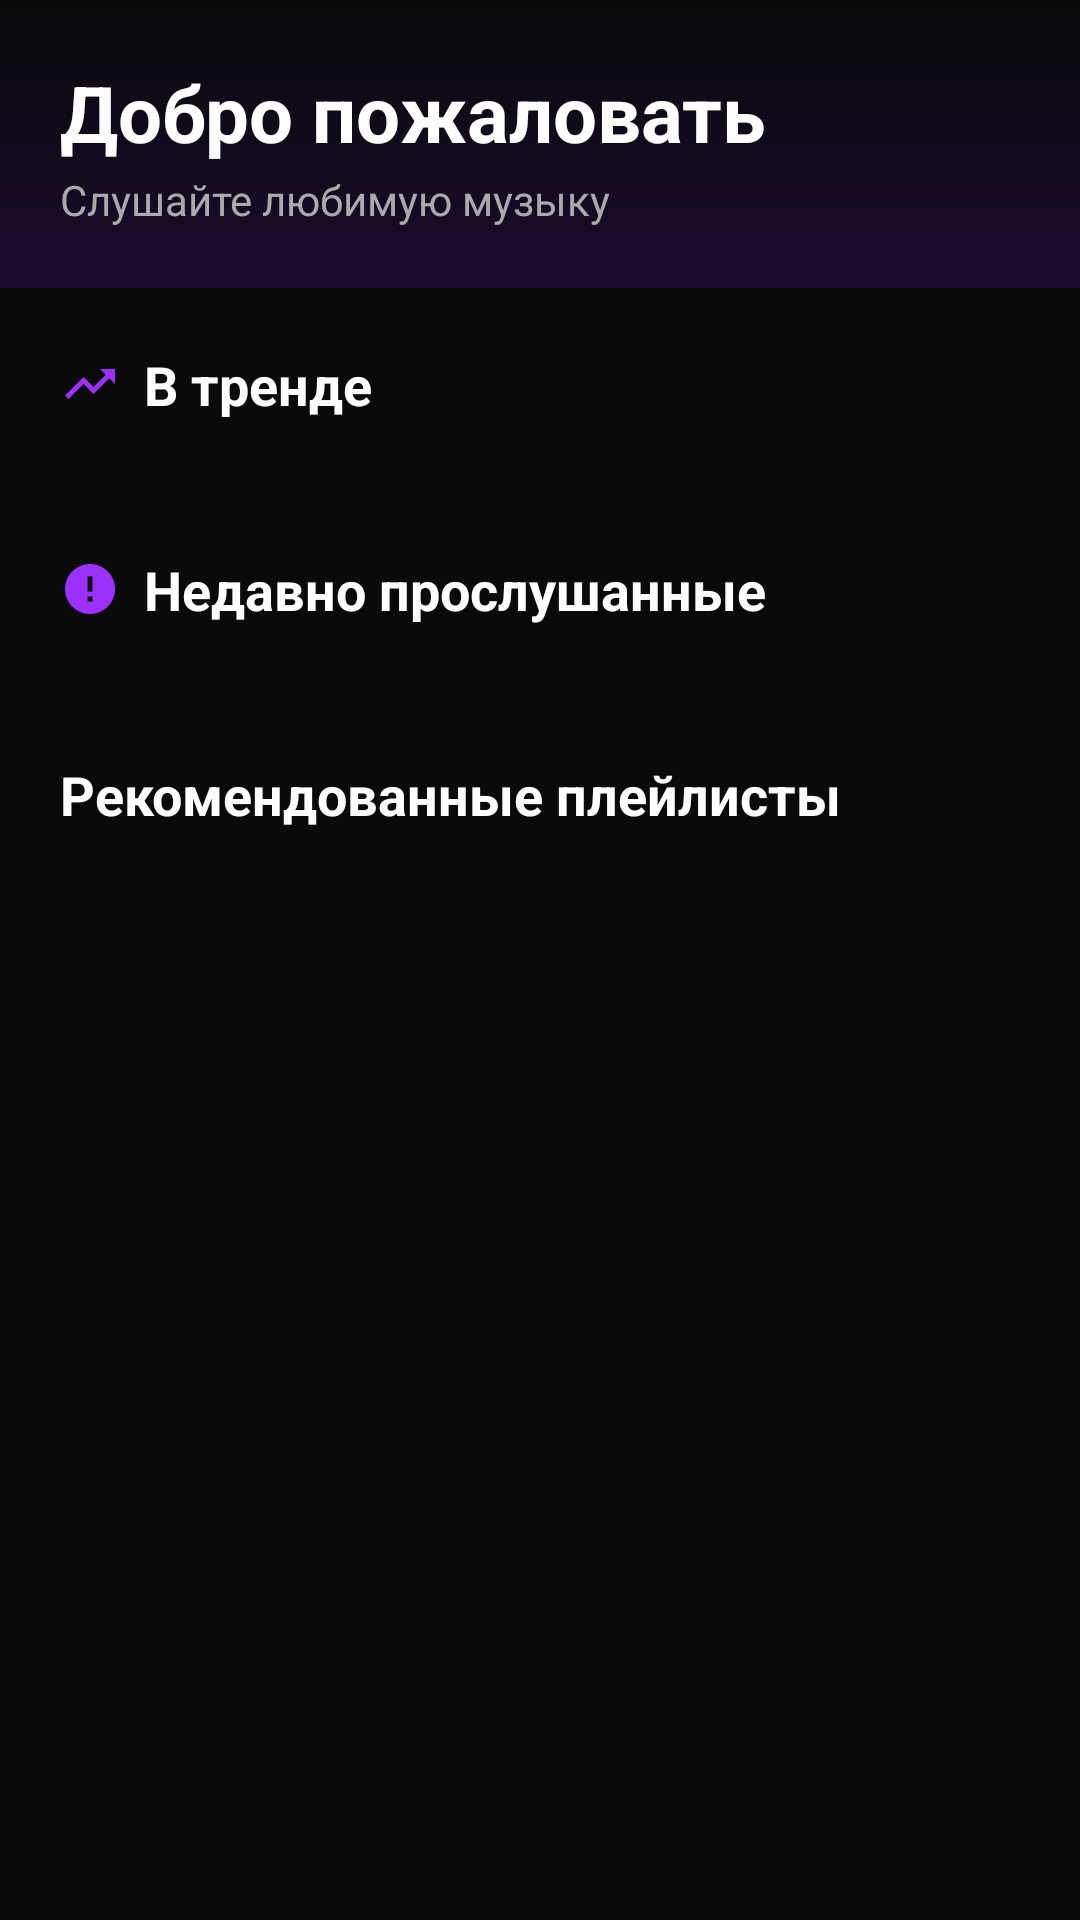

Icon click points for this 1080 × 1920 phone screenshot, format (x=x, y=y):
Trending: (x=90, y=384)
